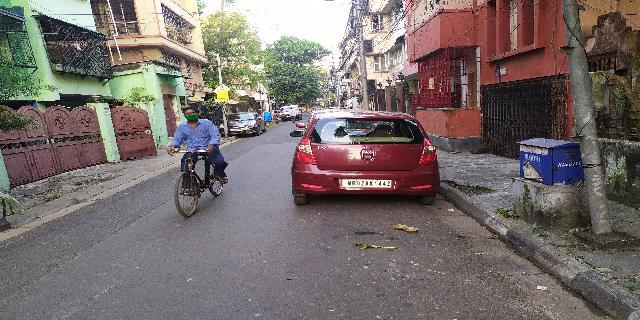Car: (288, 107, 447, 206), (225, 110, 267, 138)
Cycle: (167, 103, 232, 220)
